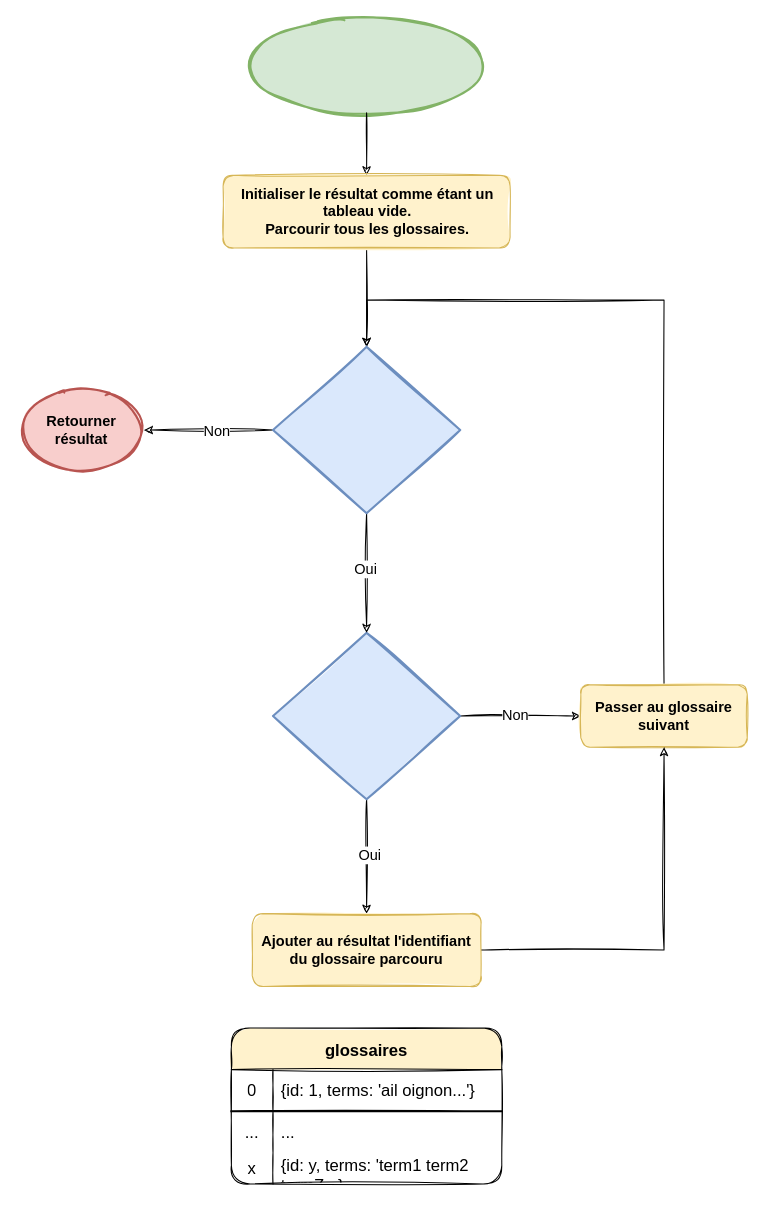
Image size: 765x1211. Some labels were removed from this diagram. The centre of each missing label's shape, as x and y in pixels:
"L'utilisateur rentre au moins 3 lettres dans la barre de recherche" belongs at (x=366, y=65).
"Le glossaire contient-il la recherche ?" belongs at (x=366, y=715).
"Reste-t-il un glossaire à parcourir ?" belongs at (x=366, y=429).
